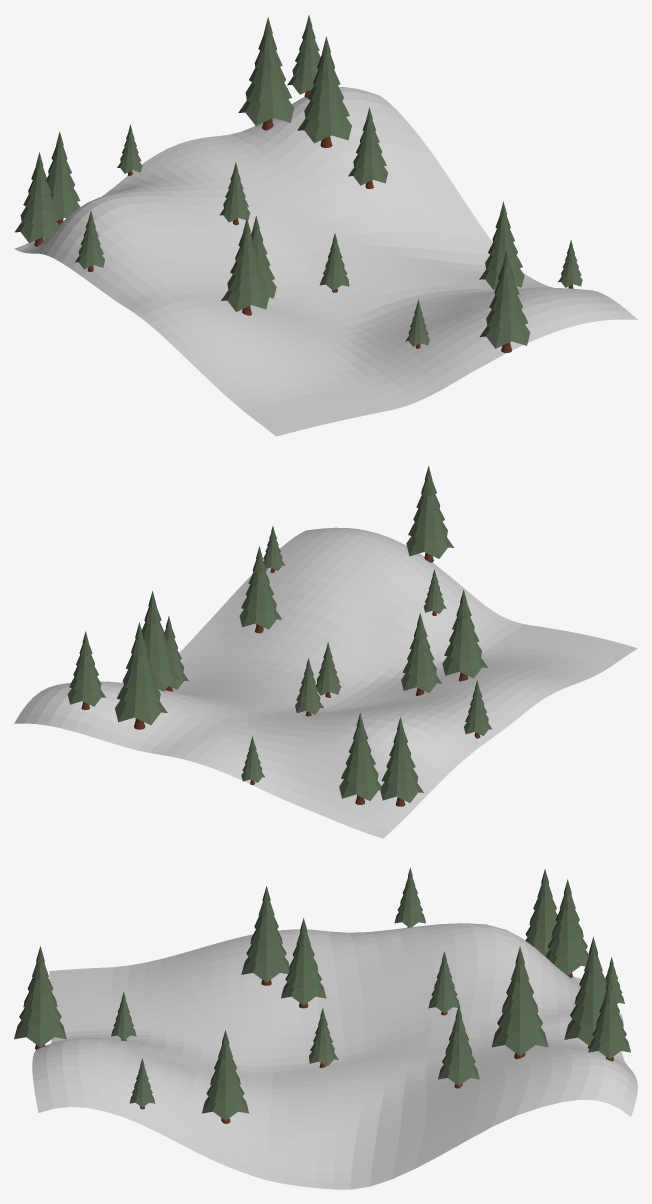
The model's file is hub_forest_par.obj.
The picture shows the model from 3 angles, top to bottom: view 1: azimuth 30°, elevation 25°; view 2: azimuth 150°, elevation 25°; view 3: azimuth 270°, elevation 25°; orthographic projection. The views are drawn at different scales.
Visible parts, largest first — view 1: Plane, tree, tree.001; view 2: Plane, tree, tree.001; view 3: Plane, tree.
Part boxes in pixels (bbox=[...]): Plane: bbox=[14, 87, 637, 436]; tree: bbox=[15, 15, 582, 348]; tree.001: bbox=[34, 89, 573, 352]; Plane: bbox=[14, 527, 637, 838]; tree: bbox=[67, 466, 492, 802]; tree.001: bbox=[81, 553, 480, 806]; Plane: bbox=[32, 923, 637, 1189]; tree: bbox=[14, 867, 630, 1120].
Bounding box in the file's own units: 107 × 48.25 × 141.
